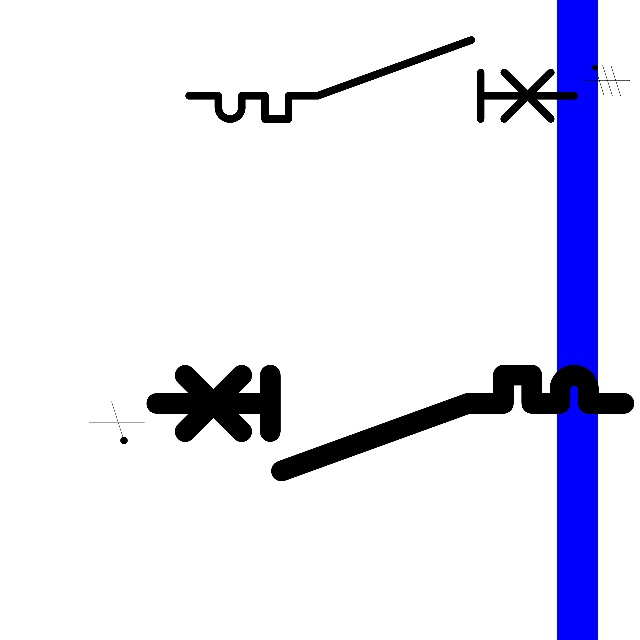interruptor_termomagnetico: (144, 363, 636, 483), (179, 30, 584, 129)
